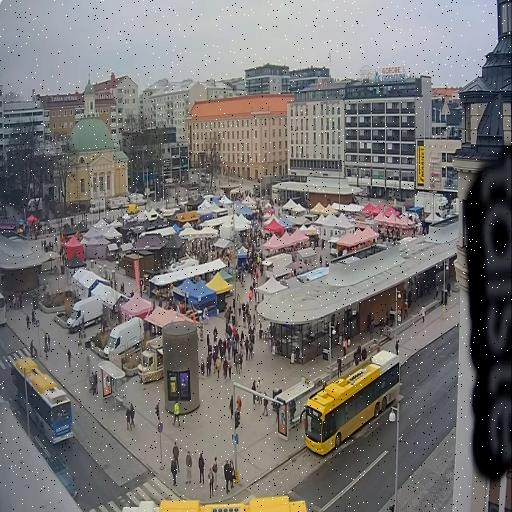Bus: (304, 351, 399, 455), (11, 358, 73, 443), (122, 496, 308, 511), (0, 293, 6, 325)
Delivery: (34, 436, 77, 498), (104, 317, 143, 358), (67, 296, 103, 332), (138, 336, 163, 383)
